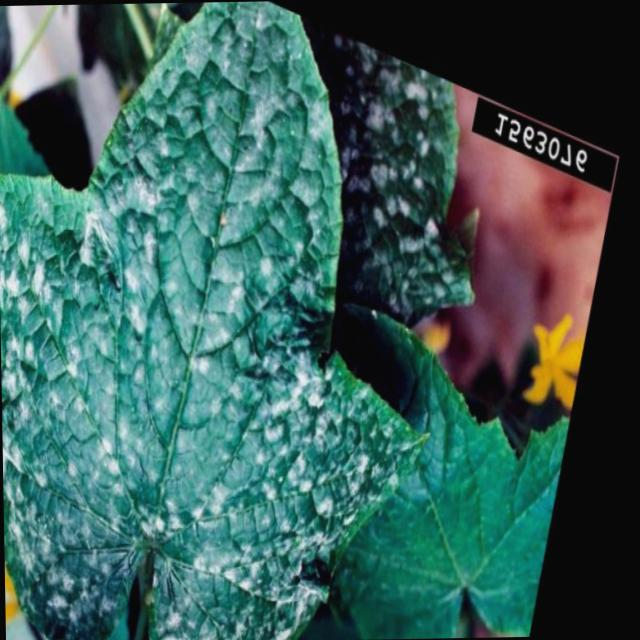Powdery_Mildew: (0, 2, 427, 640), (222, 2, 474, 341)
